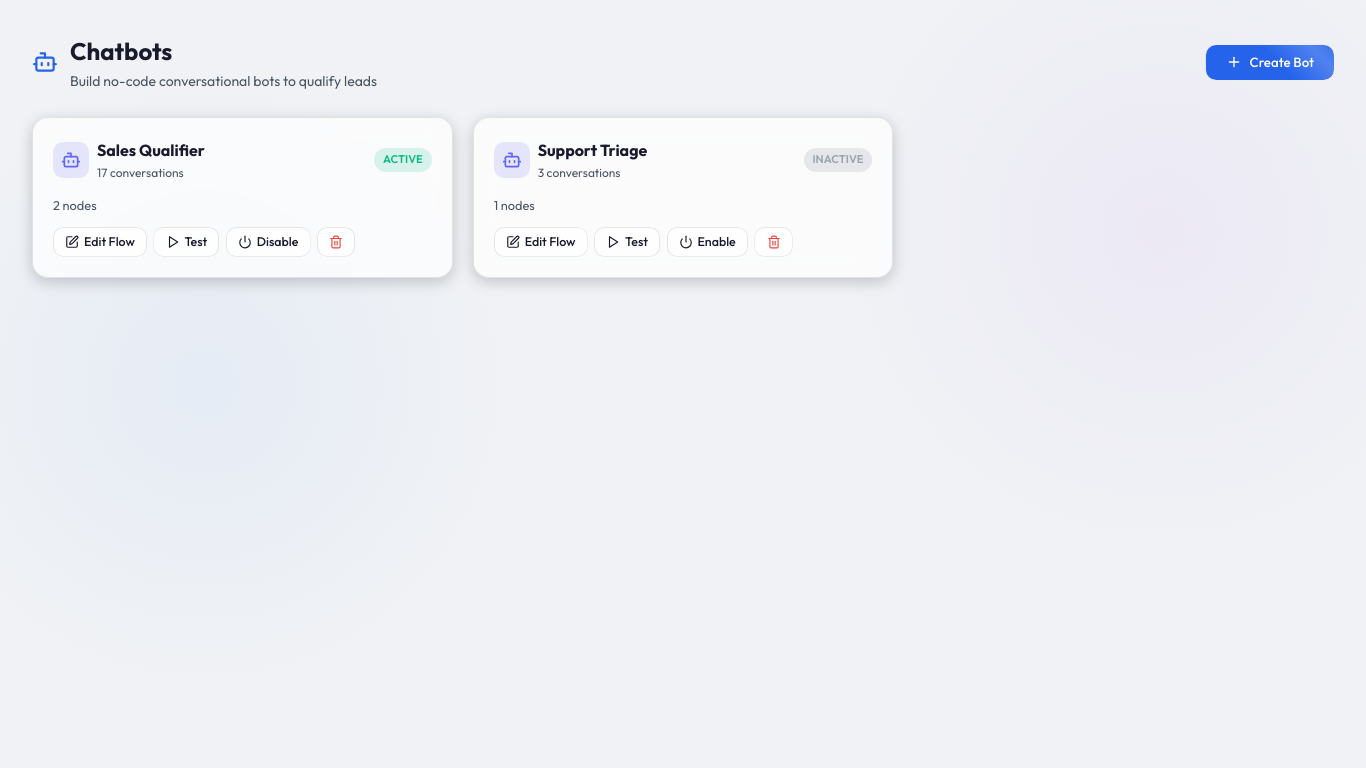
Test: <Chatbots /> — page surface › clicking Edit Flow opens the FlowEditor modal with the bot name + Save button
This screenshot has width=1366, height=768.
Expected: the text "Sales Qualifier" is shown, left=97, top=138, right=205, bottom=163
Click the button "Edit Flow" below "17". click: coordinates (100, 242)
box: left=53, top=227, right=147, bottom=257
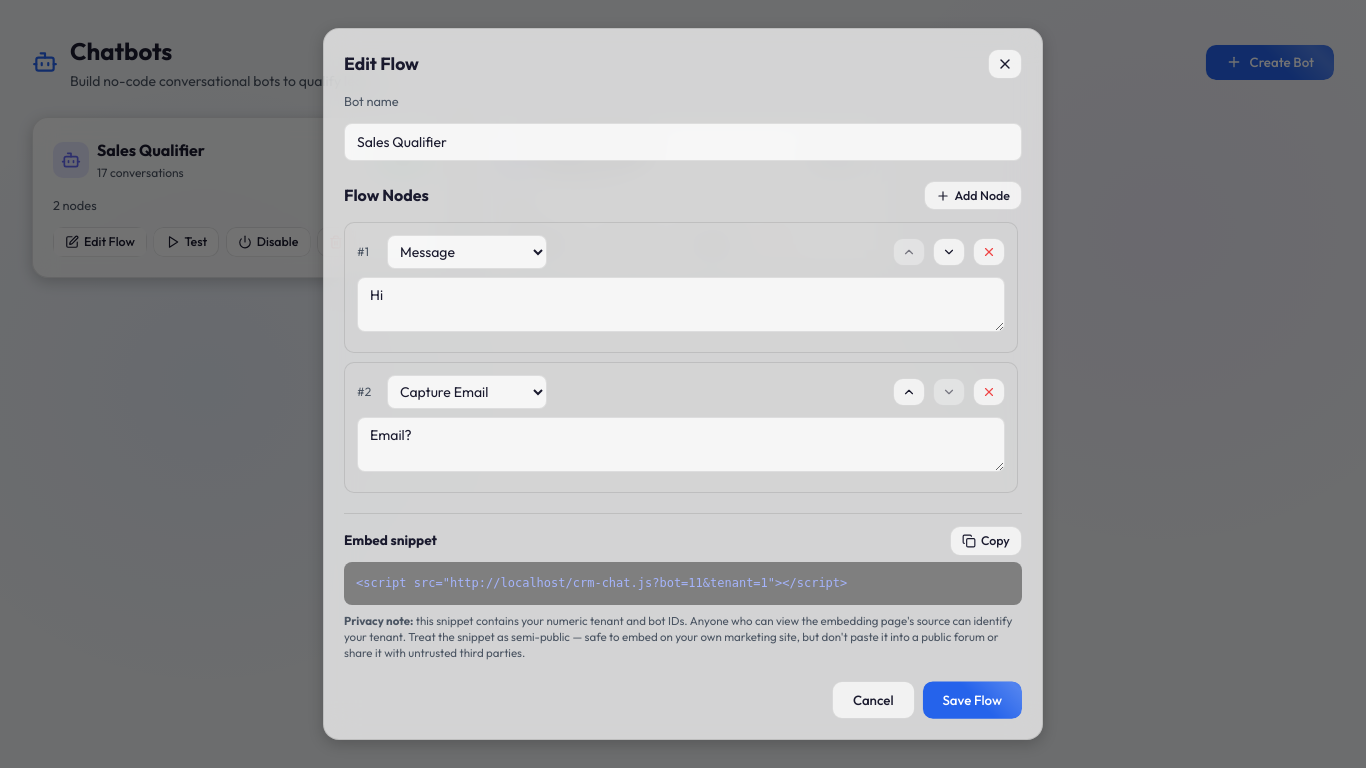
Result: the heading "Edit Flow" is shown at left=344, top=50, right=419, bottom=78
Result: the field showing "Sales Qualifier" is shown at left=344, top=123, right=1022, bottom=161
Result: the button "Save Flow" is shown at left=922, top=681, right=1022, bottom=719
